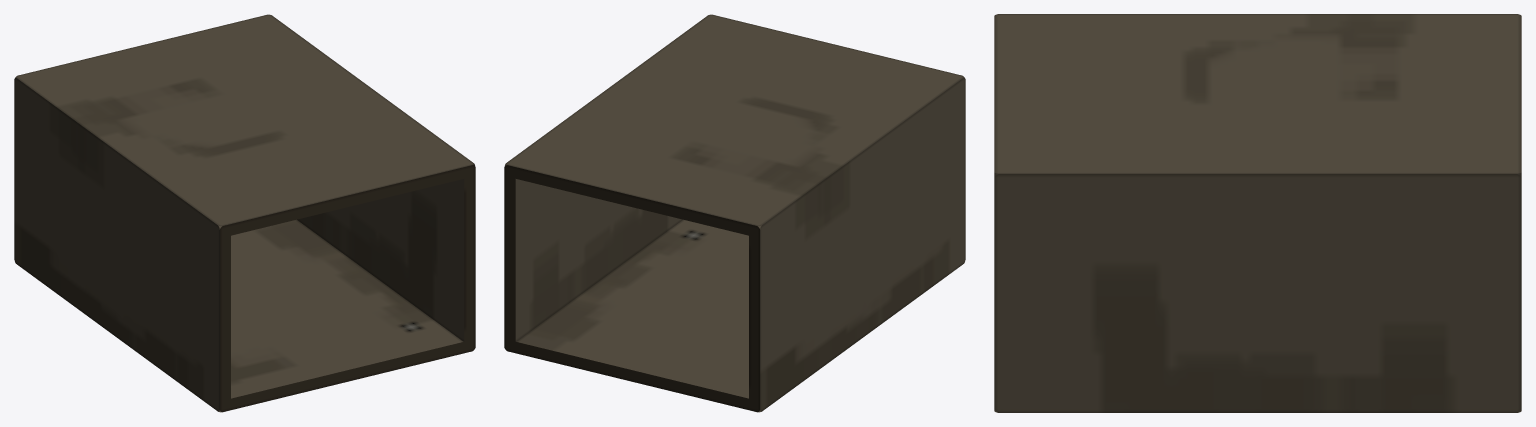
Rendered from VENT_PIPE.obj.
3 renders of one model, left to right at view 1: azimuth 30°, elevation 25°; view 2: azimuth 150°, elevation 25°; view 3: azimuth 270°, elevation 25°, orthographic. The views are drawn at different scales.
Visible parts, largest first — view 1: cuboid; view 2: cuboid; view 3: cuboid.
Part boxes in pixels (left/top/right/bottom): cuboid: left=14, top=14, right=475, bottom=412; cuboid: left=504, top=14, right=965, bottom=412; cuboid: left=994, top=14, right=1521, bottom=412.
Size of the model in its own units: 0.7188 by 0.5 by 1.
1 material, 1 textured.
